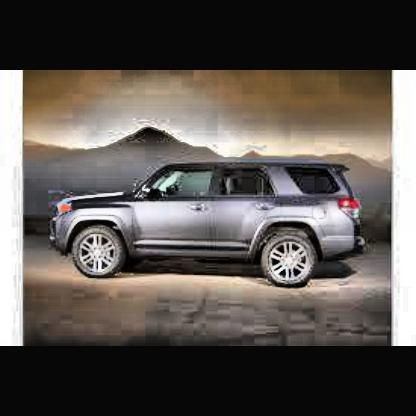Toyota 4Runner SUV 2012: (51, 157, 367, 293)
